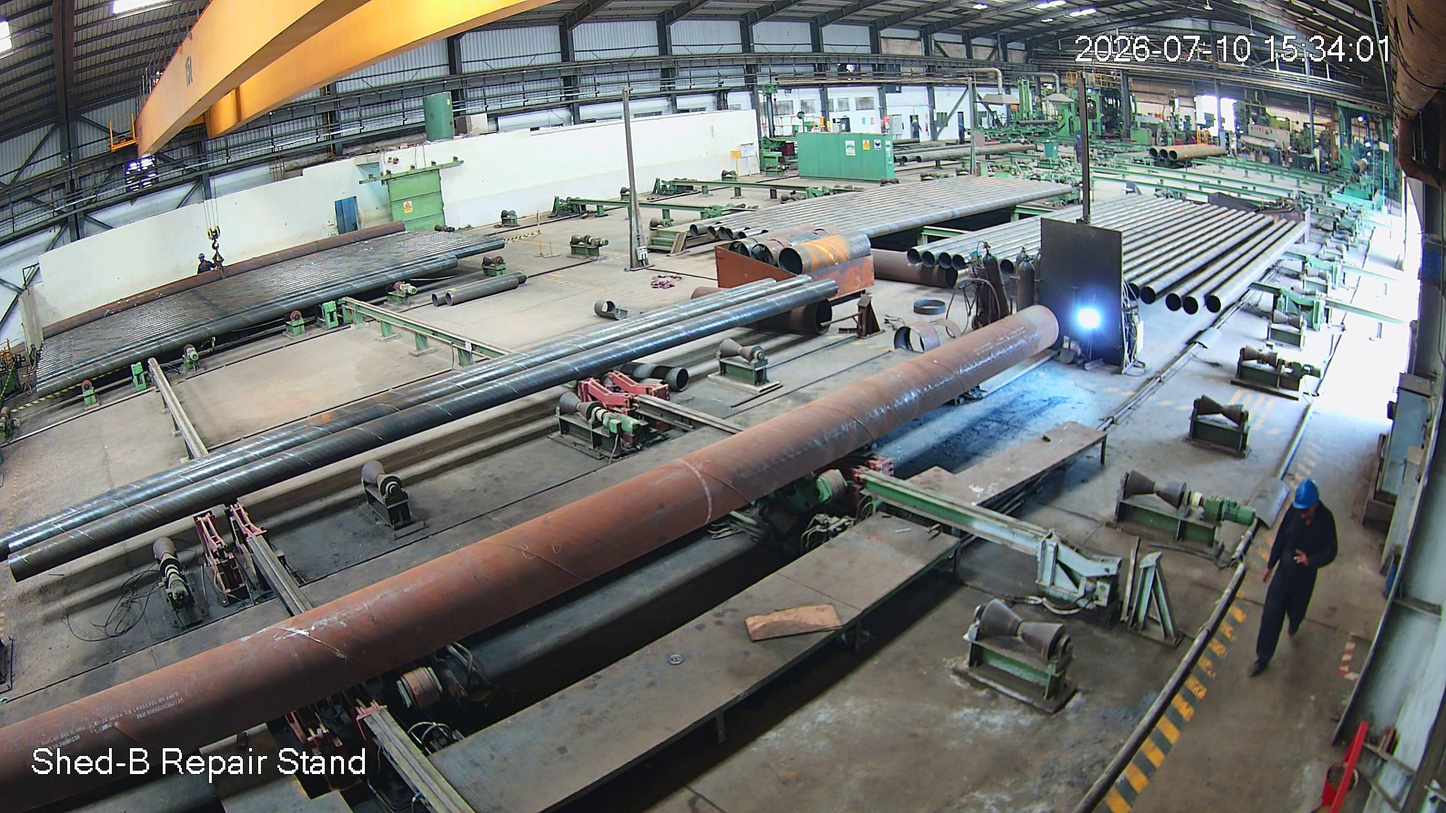Helmet: (1284, 470, 1327, 544)
Person: (1246, 481, 1345, 679)
